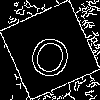O: (25, 25, 78, 82)
